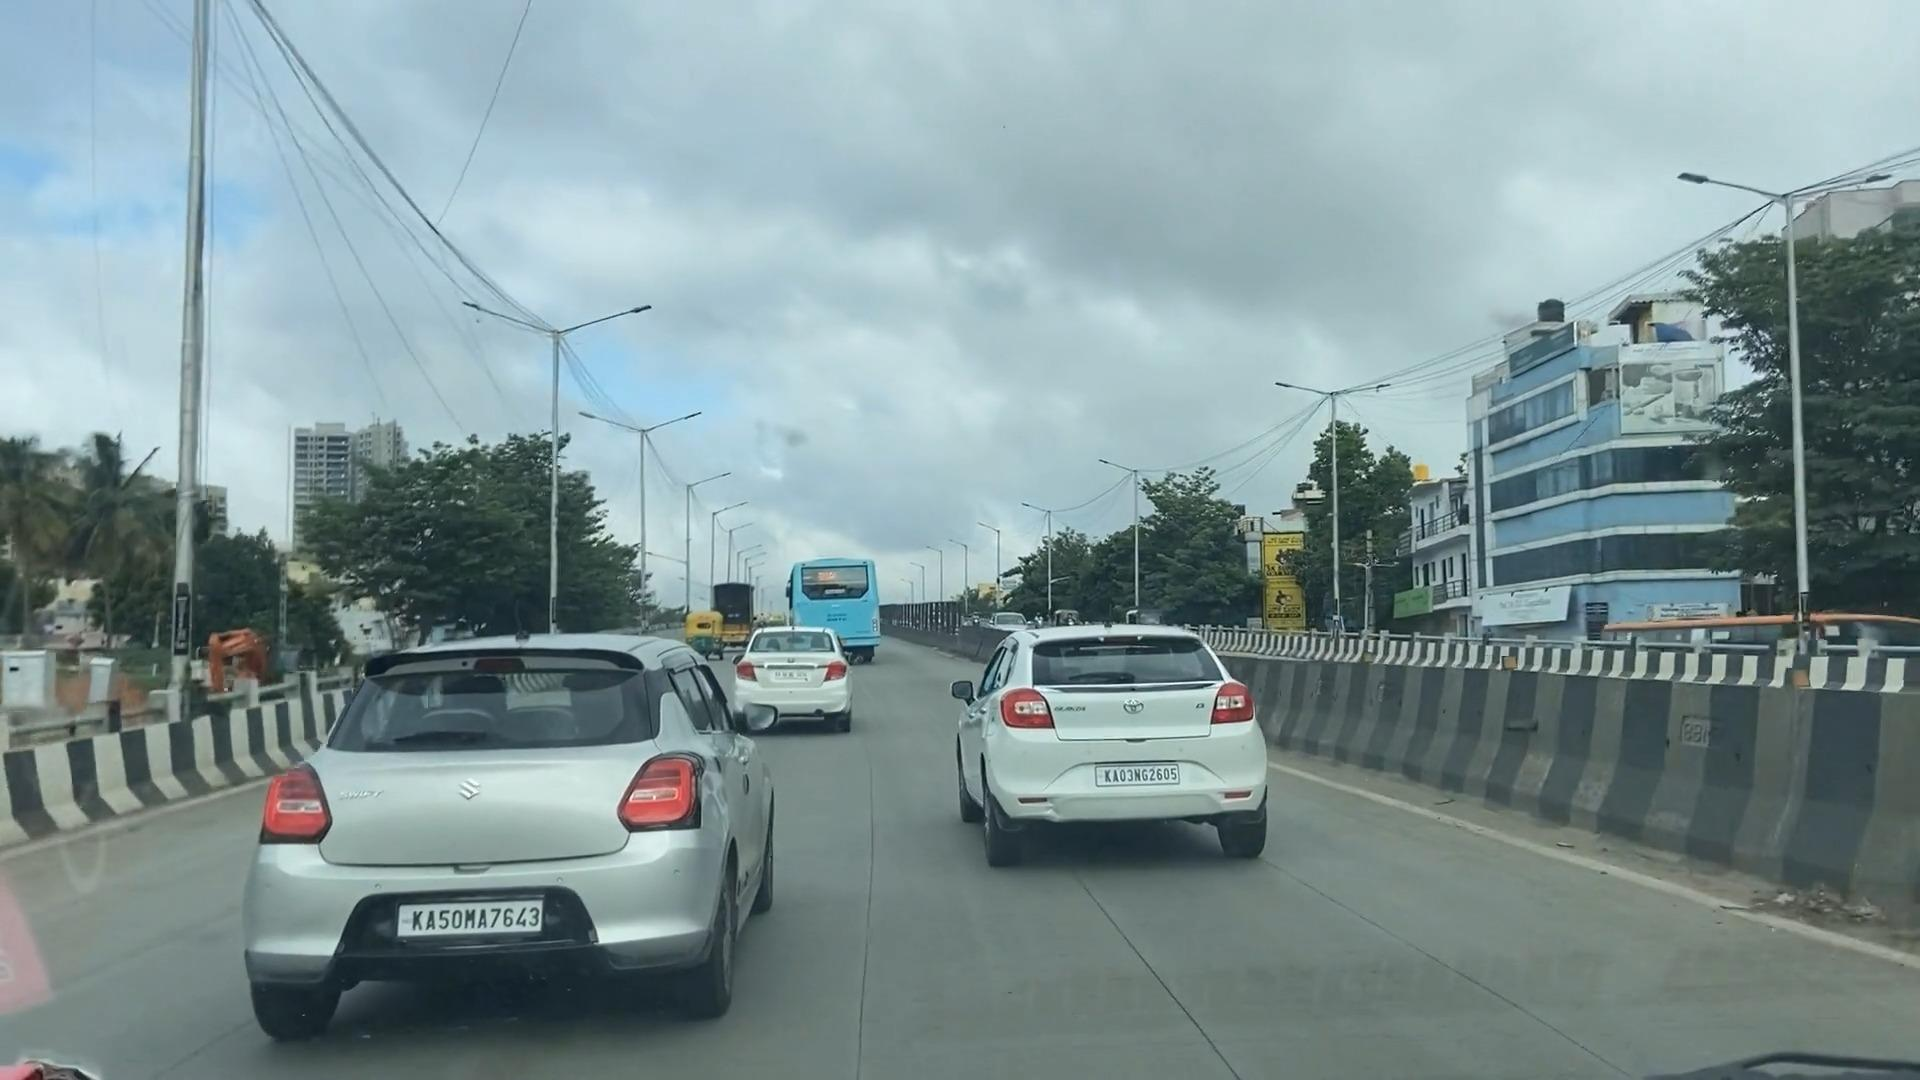HMV: (760, 508, 887, 671)
LMV: (178, 537, 782, 1055), (951, 600, 1283, 873), (703, 588, 860, 742)
